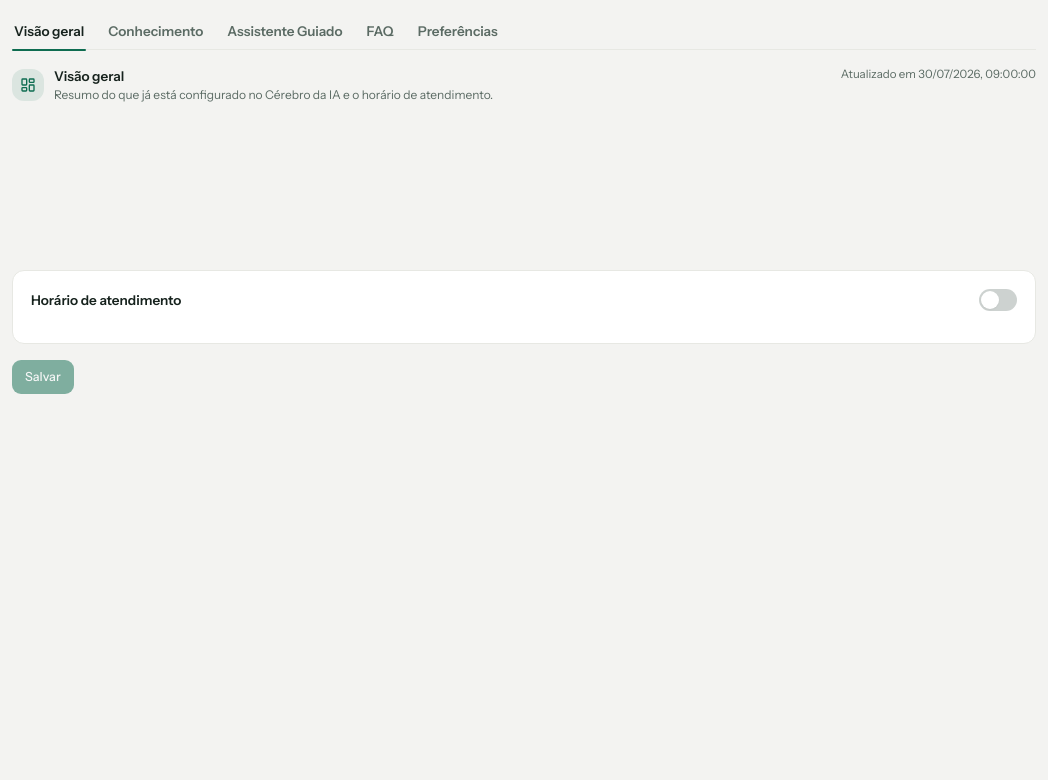
Scenario: AiProfilePanel (Cérebro da IA v3 — 4 abas) › troca para a aba Conhecimento e mostra o texto carregado
Check: the tab "Visão geral" is shown, box [12,12,86,50]
Click the tab "Conhecimento". click: (156, 31)
box: [106,12,205,50]
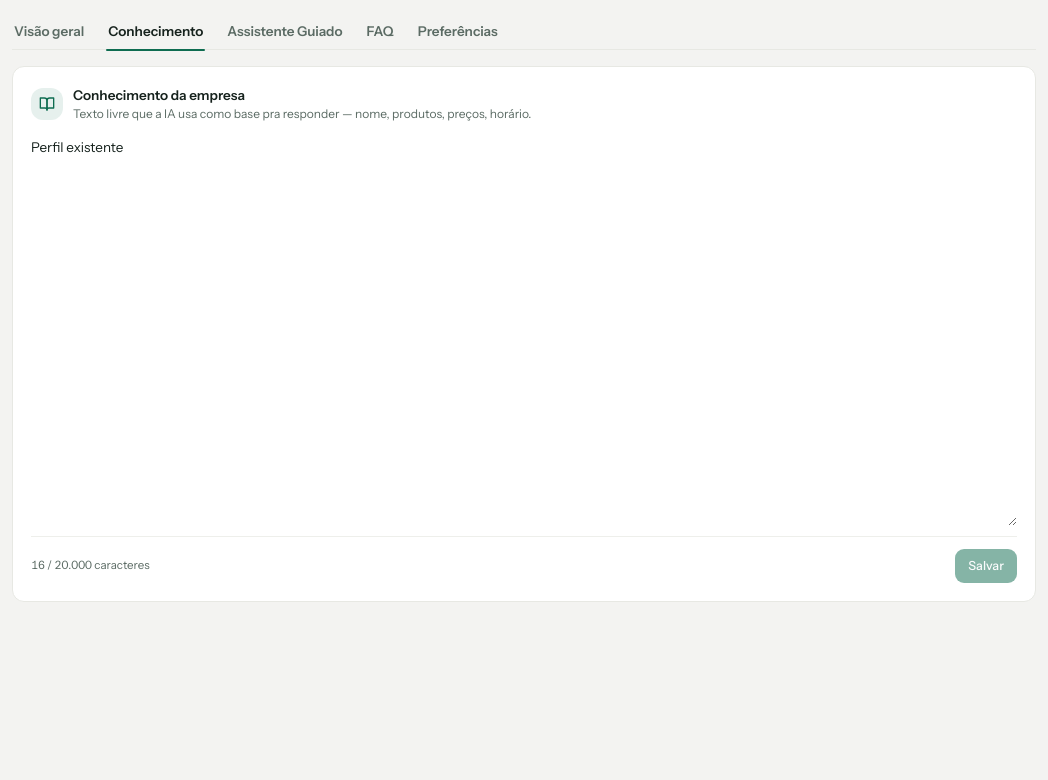
Check: the text box showing "Perfil existente" is shown, box [31,137,1017,526]
